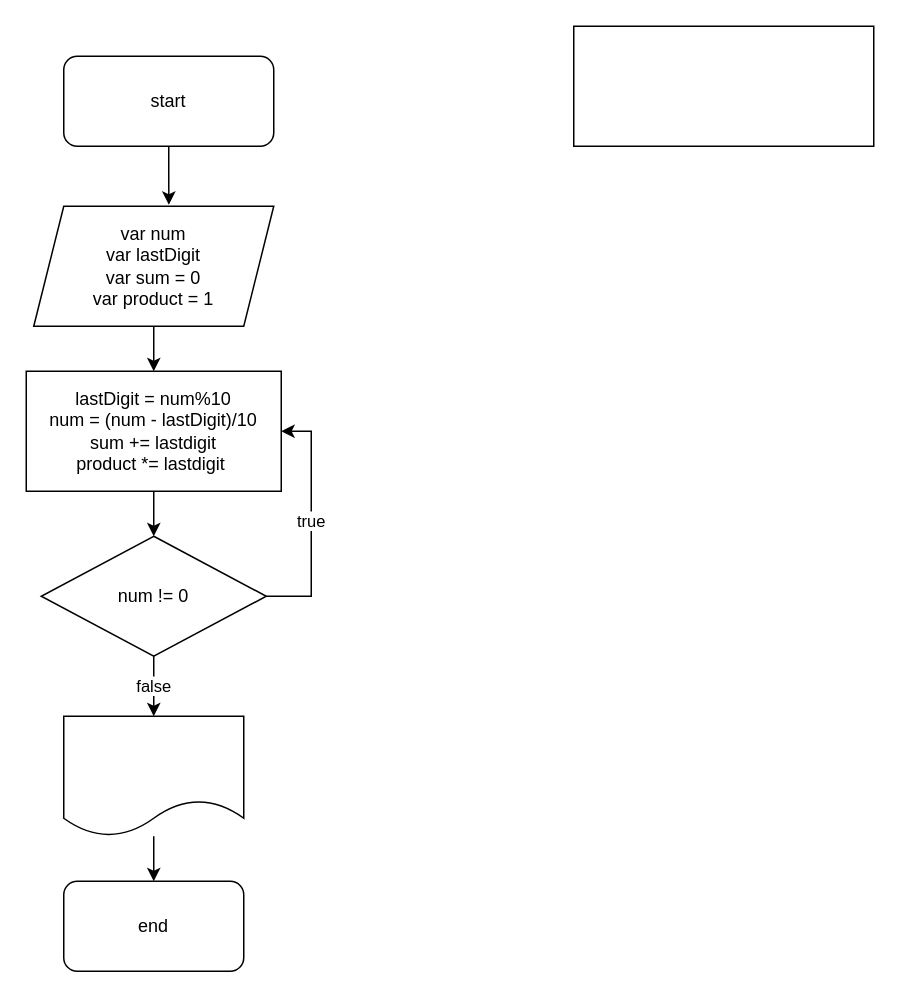
This 900x998 diagram has some shape labels left out. The centre of each missing label's shape, as x and y in pixels:
Natural N ədədi verilmişdir. Onun rəqəmlərinin cəmini və hasilini tapın: pixel 723 85
sum product: pixel 153 775
